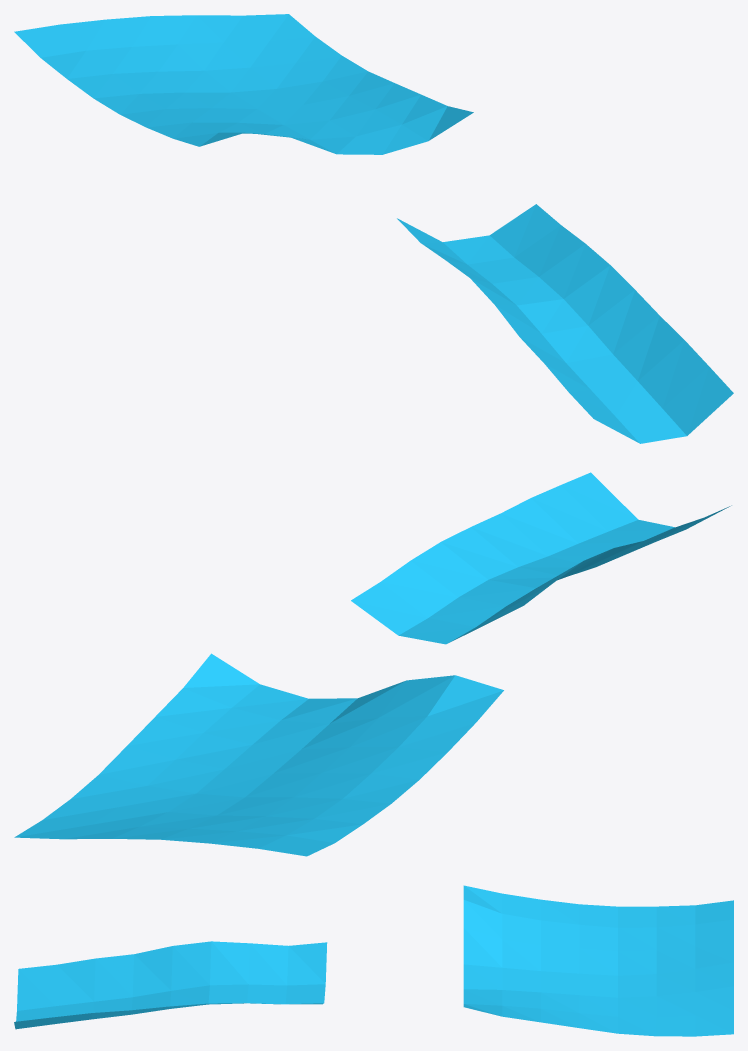
The model's file is hand0423g_ring_to_palm_aligned.obj.
The picture shows the model from 3 angles, top to bottom: view 1: azimuth 30°, elevation 25°; view 2: azimuth 150°, elevation 25°; view 3: azimuth 270°, elevation 25°; orthographic projection. The views are drawn at different scales.
Parts seen in each view (by area): view 1: finger_to_palm_ring; view 2: finger_to_palm_ring; view 3: finger_to_palm_ring.
Part boxes in pixels (<box>): finger_to_palm_ring: <box>14,14,733,443</box>; finger_to_palm_ring: <box>14,472,731,856</box>; finger_to_palm_ring: <box>14,885,733,1036</box>.
Size of the model in its own units: 0.9075 by 0.3524 by 2.82.
